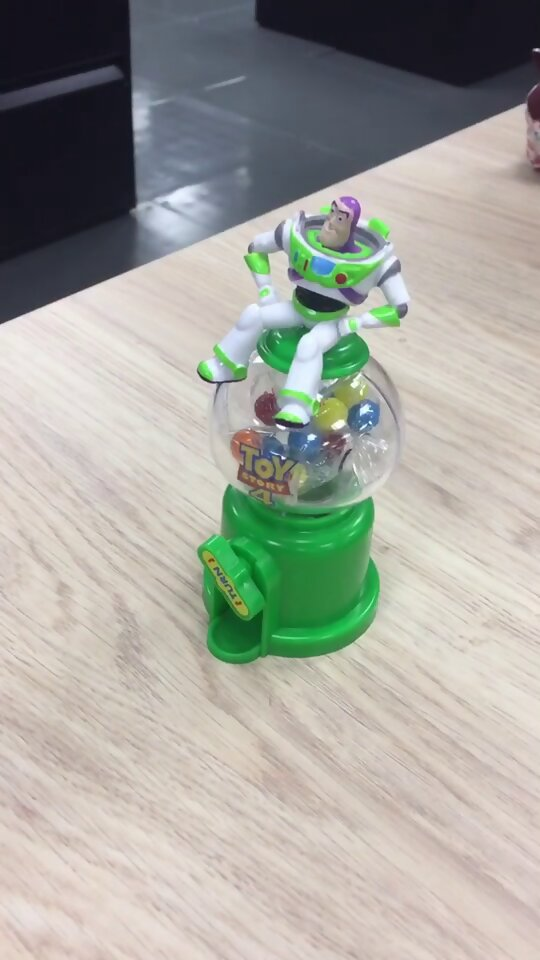buzz: (188, 186, 416, 674)
